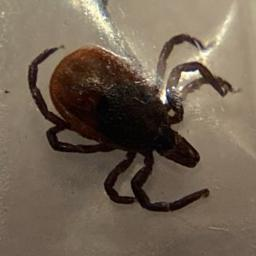Ixodes scapularis: (27, 32, 241, 214)
